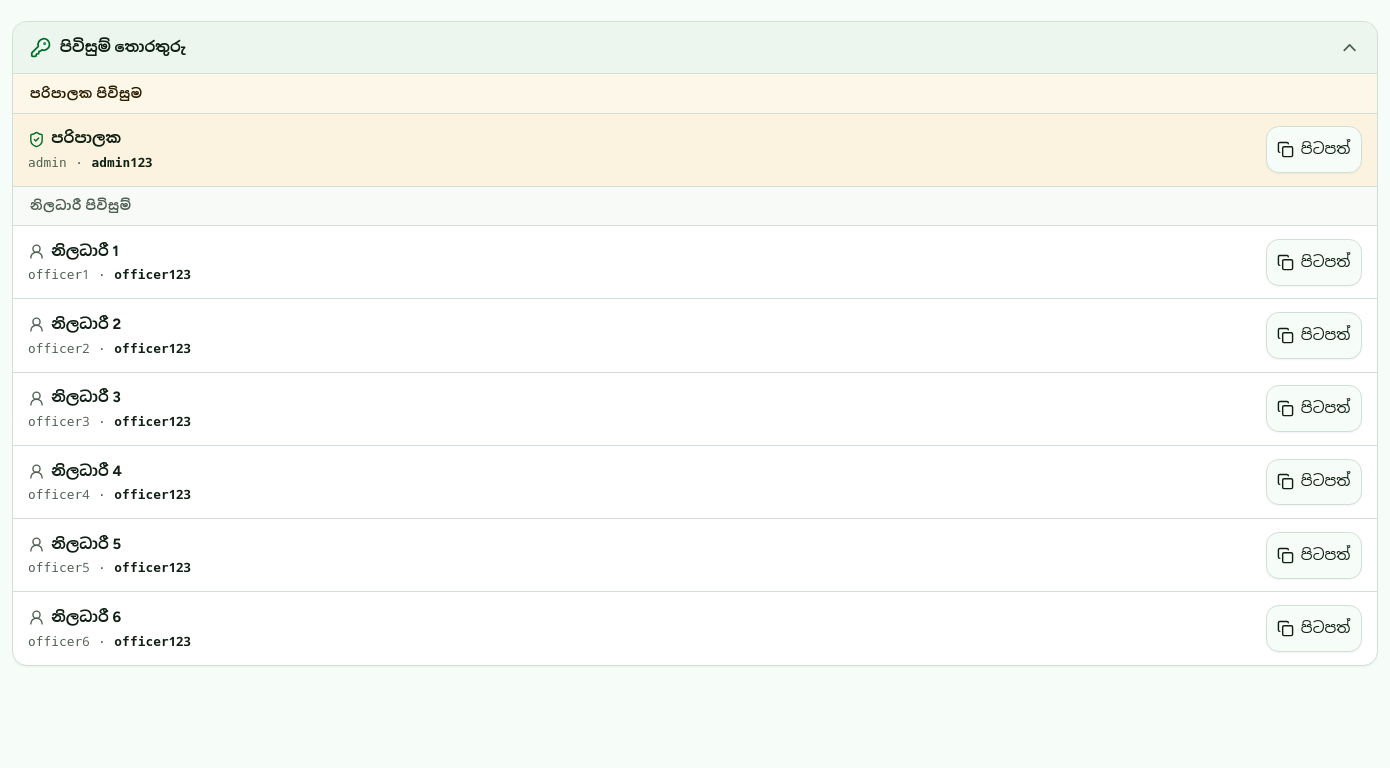
Scenario: CredentialsPanel › copies a credential row to the clipboard and confirms inline
The image size is (1390, 768).
Click the button with test id "login.copy_button.0": (1314, 150) left=1266, top=126, right=1362, bottom=173
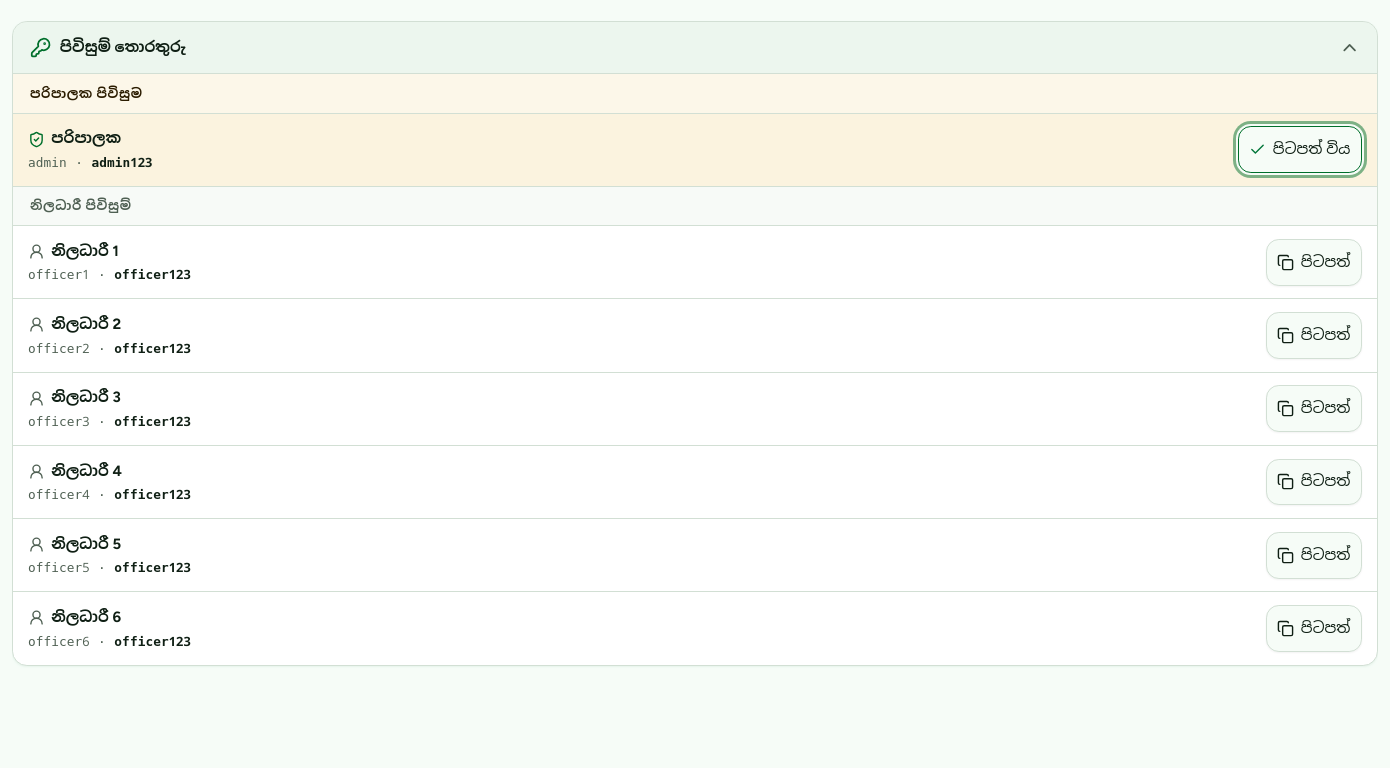
Expected: the button with test id "login.copy_button.0" reads "පිටපත් විය", left=1238, top=126, right=1362, bottom=173
